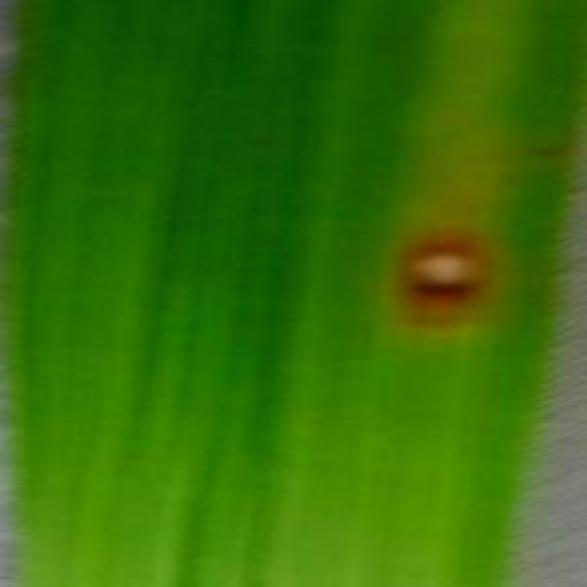Leaf_smut: (340, 160, 503, 346)
